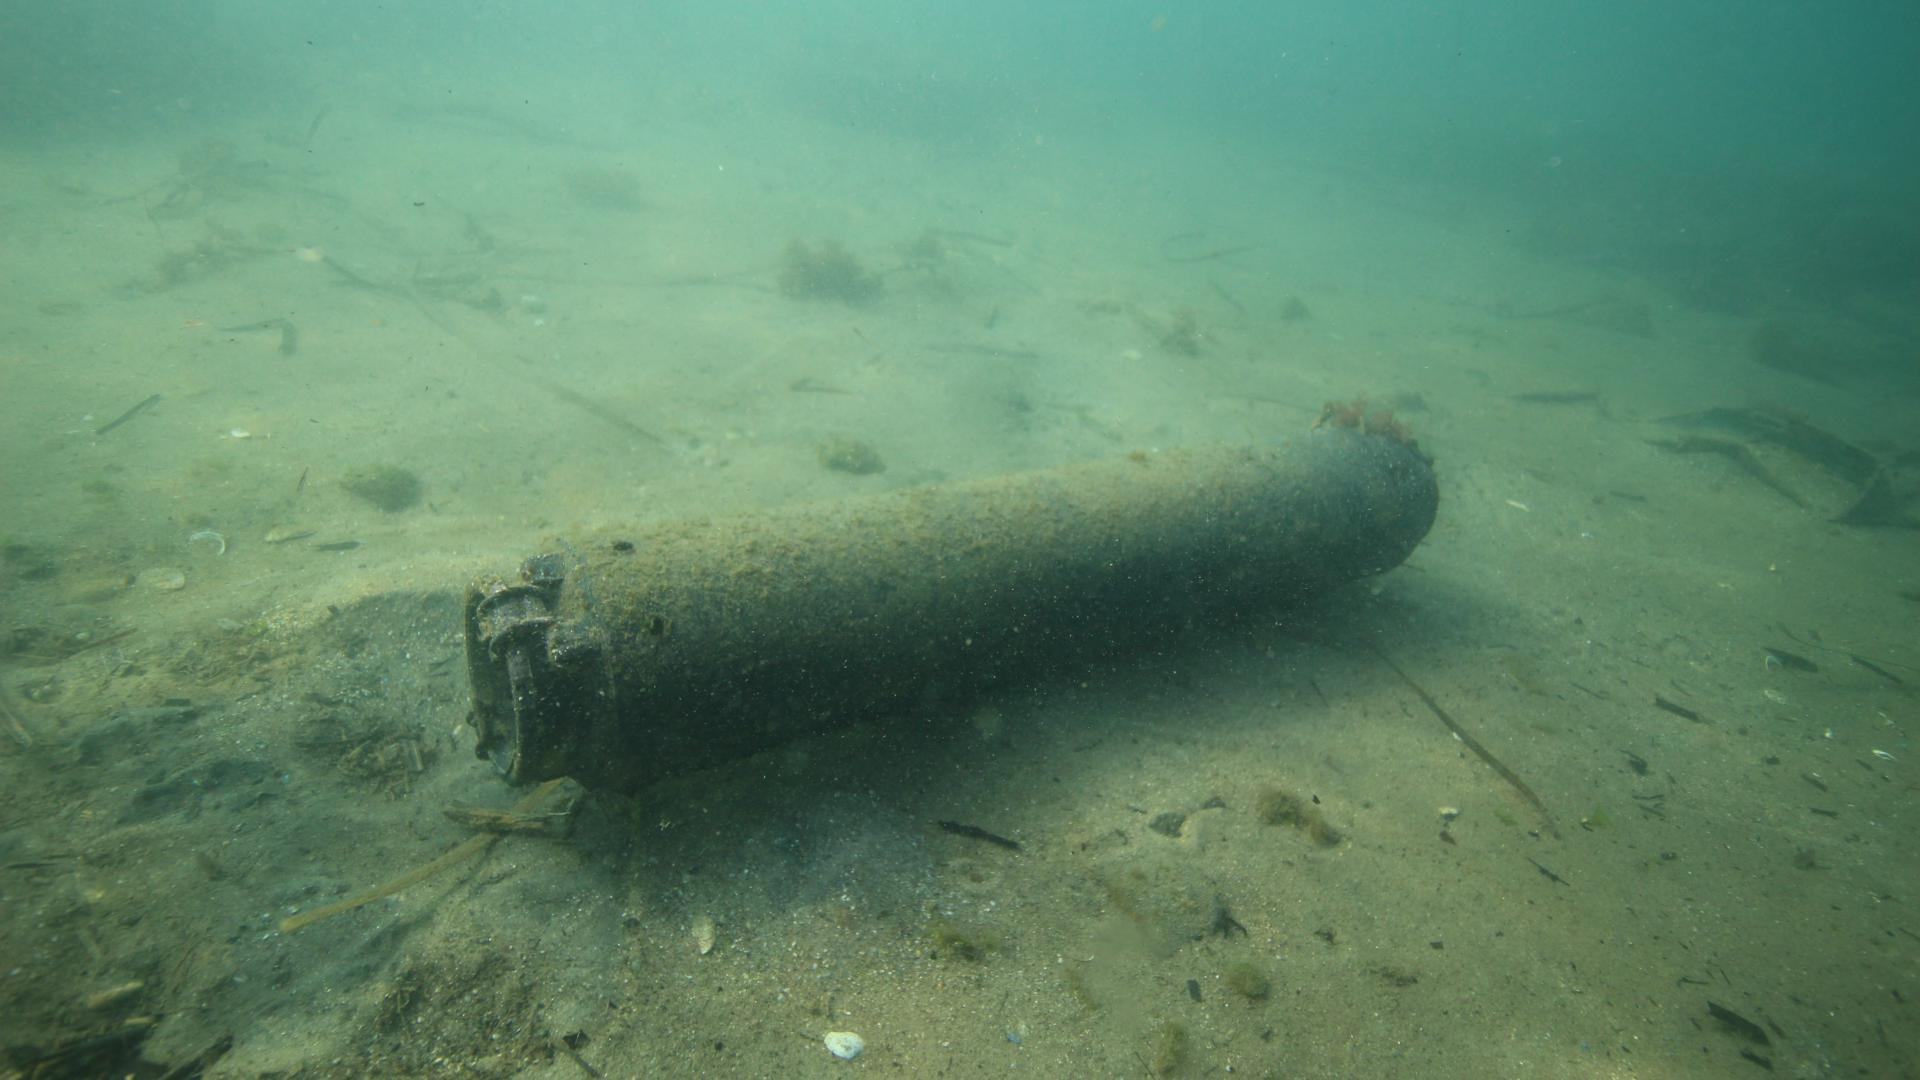eel fish trap: (456, 401, 1448, 807)
